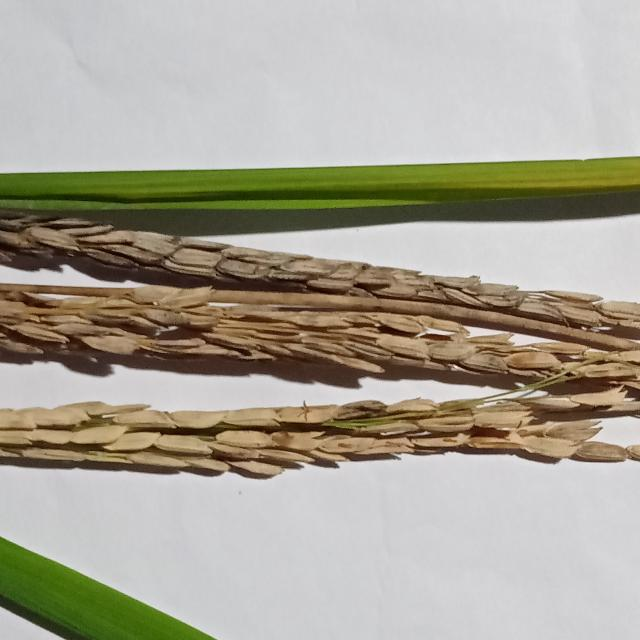Neck_Blast: (0, 206, 640, 362), (0, 280, 640, 410), (0, 392, 640, 482)
